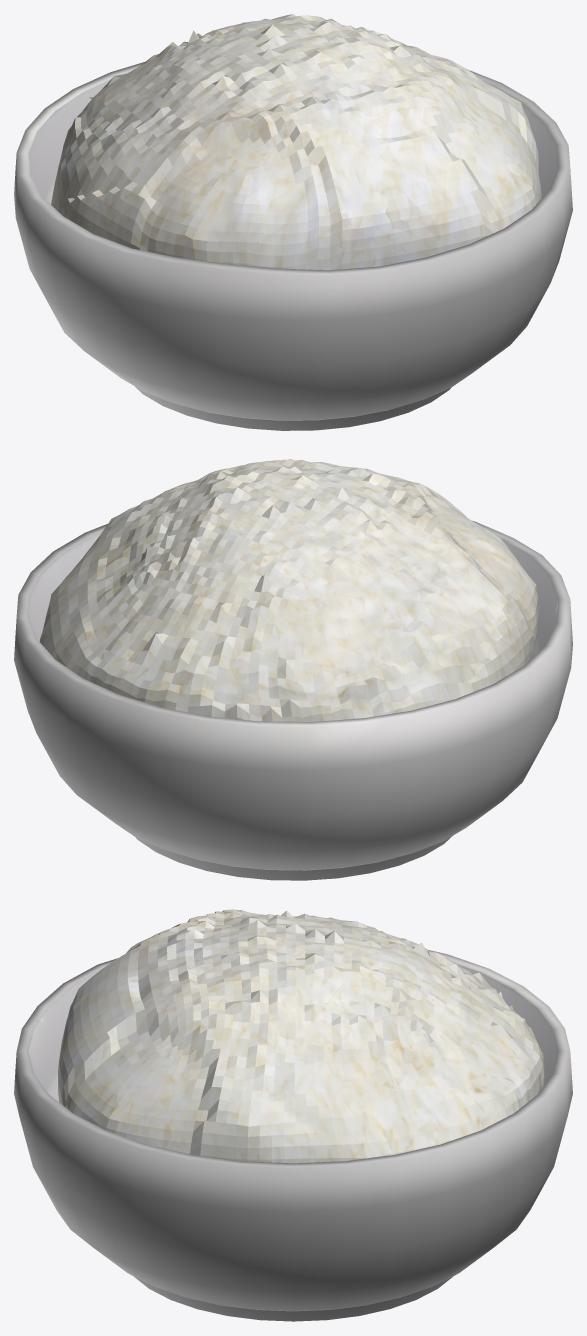
Rendered from 裝米的碗.FBX.
The picture shows the model from 3 angles, top to bottom: view 1: azimuth 30°, elevation 25°; view 2: azimuth 150°, elevation 25°; view 3: azimuth 270°, elevation 25°; orthographic projection.
Parts seen in each view (by area): view 1: 飯, 碗; view 2: 飯, 碗; view 3: 飯, 碗.
Boxes of the visible parts, left/top/right/bottom form: 飯: left=51, top=14, right=541, bottom=270; 碗: left=14, top=62, right=572, bottom=430; 飯: left=39, top=459, right=538, bottom=721; 碗: left=14, top=520, right=572, bottom=880; 飯: left=58, top=909, right=544, bottom=1163; 碗: left=14, top=950, right=572, bottom=1321.
Size of the model in its own units: 15.55 by 9.75 by 15.55.
Materials: 1 (1 with a texture image).
